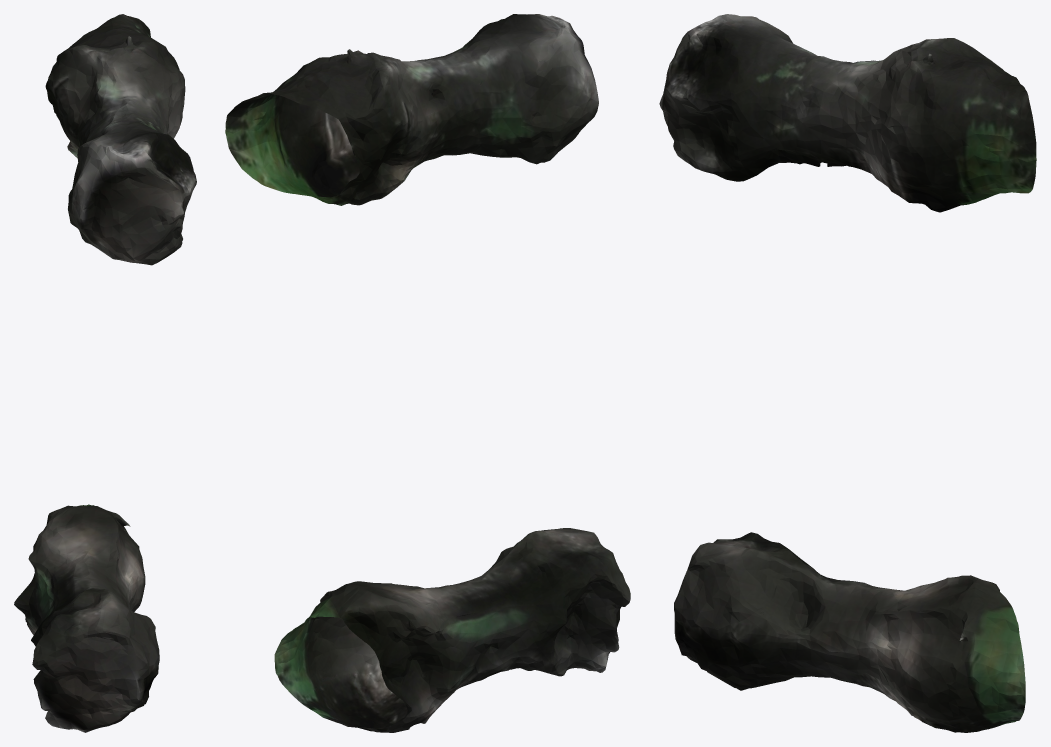
File: tile_3_3.obj
3 views of the same model, side by side, from view 1: azimuth 30°, elevation 25°; view 2: azimuth 150°, elevation 25°; view 3: azimuth 270°, elevation 25° (orthographic). The views are drawn at different scales.
Parts seen in each view (by area): view 1: texture_0; view 2: texture_0; view 3: texture_0.
Boxes of the visible parts, bbox=[...] form: texture_0: bbox=[14, 14, 196, 732]; texture_0: bbox=[225, 14, 630, 732]; texture_0: bbox=[659, 14, 1036, 732].
Bounding box in the file's own units: 0.0651 × 0.1526 × 0.075.
Materials: 1 (1 with a texture image).
